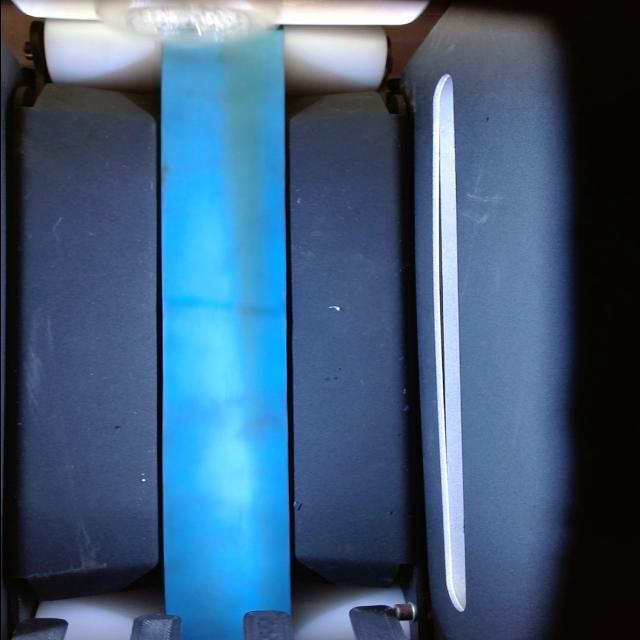bottom: (97, 0, 282, 42)
